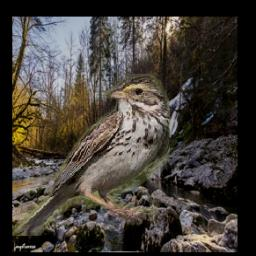Sparrow: (12, 74, 170, 236)
